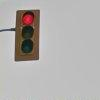traffic lights: (15, 9, 40, 61)
